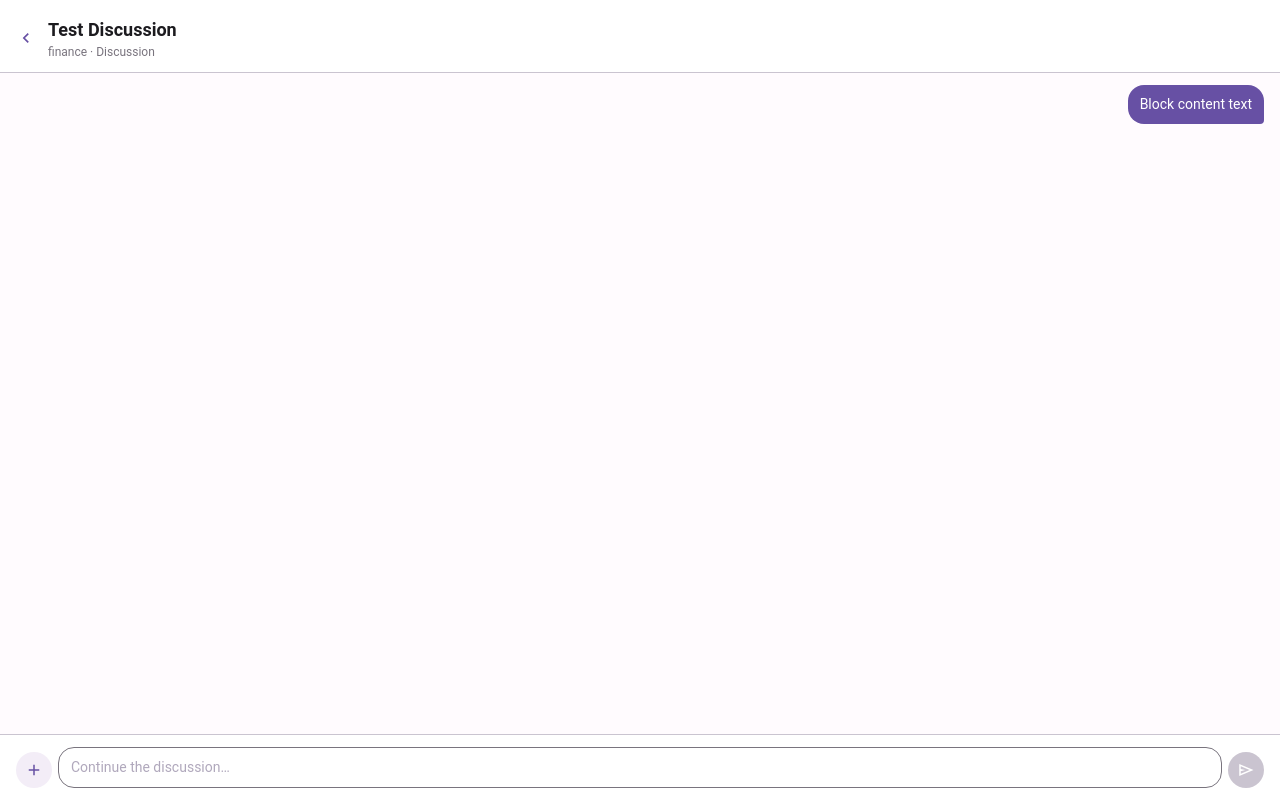
DiscussionThread › extracts text from block-format first message content
Click the button "Test Discussion" at (112, 30), box [48,16,1264,44]
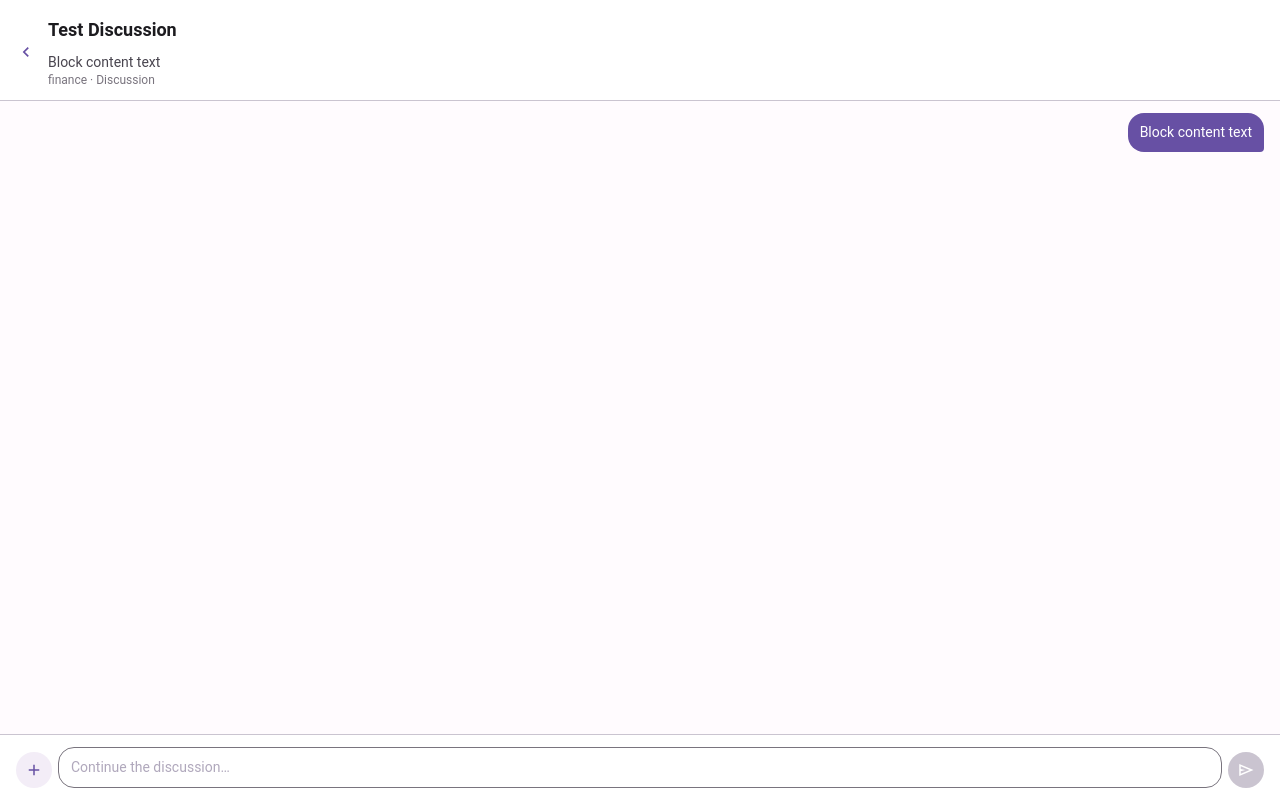
Check: the text with class "line-clamp-4" reads "Block content text", box [48,54,160,70]
